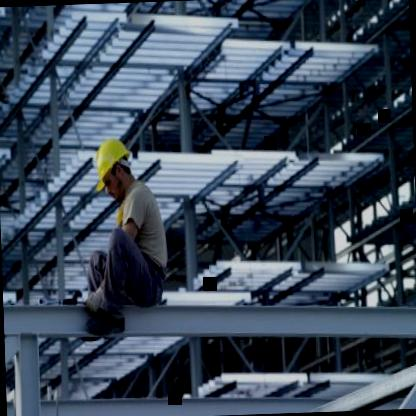helmet: (88, 130, 136, 200)
